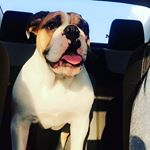puppy: (19, 7, 96, 150)
